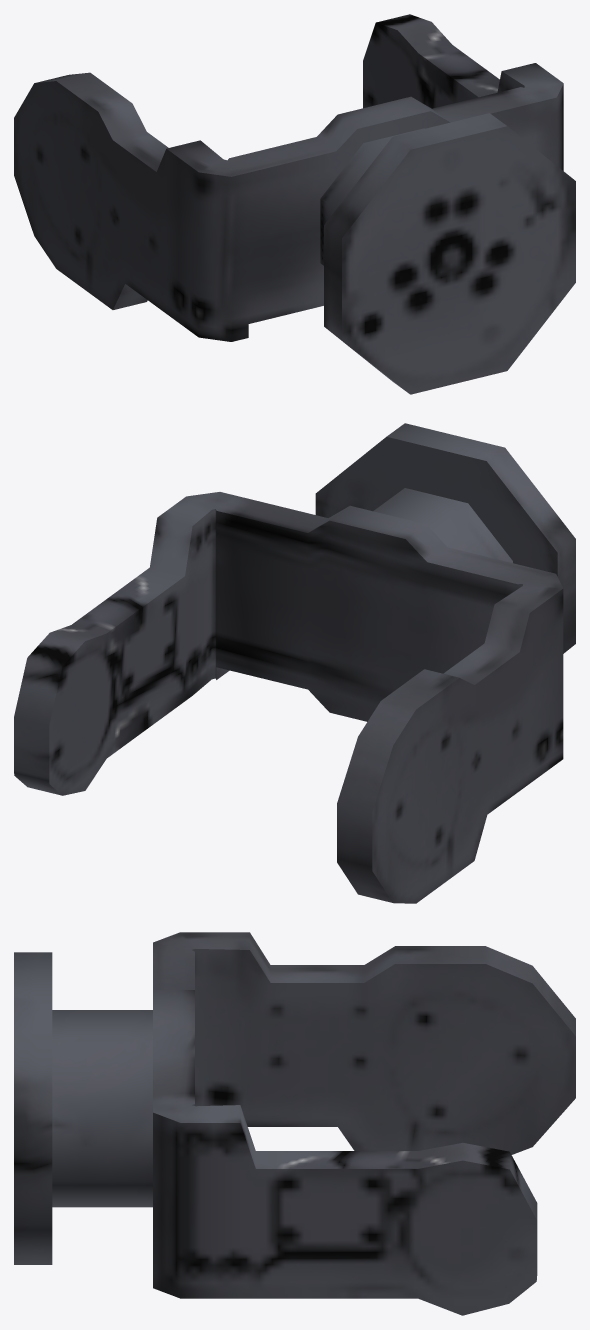
Rendered from r_hand.dae.
3 renders of one model, top to bottom at view 1: azimuth 30°, elevation 25°; view 2: azimuth 150°, elevation 25°; view 3: azimuth 270°, elevation 25°, orthographic. The views are drawn at different scales.
Parts seen in each view (by area): view 1: r_hand; view 2: r_hand; view 3: r_hand.
Part boxes in pixels (box(x1,y1,x2,y2)): r_hand: box(14, 14, 575, 394); r_hand: box(14, 423, 575, 903); r_hand: box(14, 932, 575, 1315).
Size of the model in its own units: 0.1351 by 0.1683 by 0.0876.
Materials: 1 (1 with a texture image).
